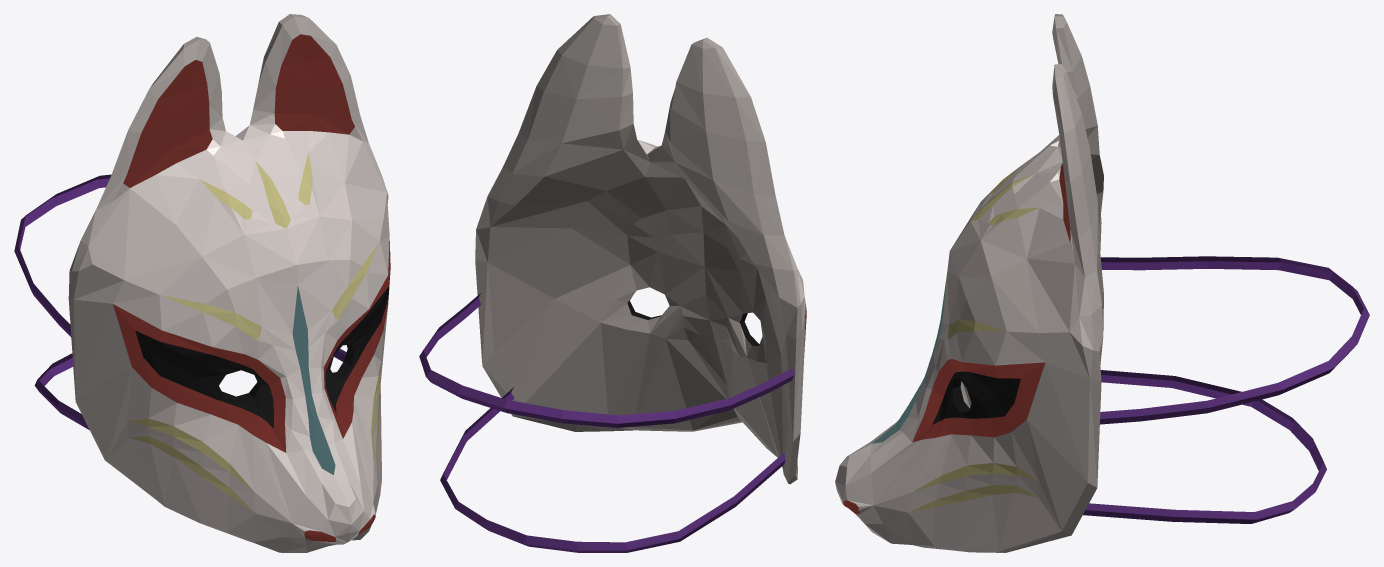
Rendered from kitsuneMaskWhiteFemale.glb.
3 renders of one model, left to right at view 1: azimuth 30°, elevation 25°; view 2: azimuth 150°, elevation 25°; view 3: azimuth 270°, elevation 25°, orthographic. The views are drawn at different scales.
Parts seen in each view (by area): view 1: kitsuneMaskWhiteFemale; view 2: kitsuneMaskWhiteFemale; view 3: kitsuneMaskWhiteFemale.
Boxes of the visible parts, x1=… form: kitsuneMaskWhiteFemale: x1=14, y1=14, x2=390, y2=552; kitsuneMaskWhiteFemale: x1=419, y1=14, x2=806, y2=552; kitsuneMaskWhiteFemale: x1=835, y1=14, x2=1369, y2=552.
Size of the model in its own units: 0.268 by 0.3744 by 0.3772.
